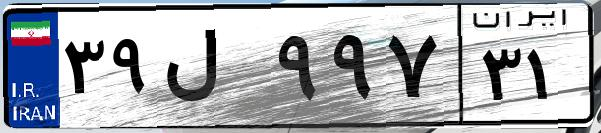1: (525, 38, 570, 115)
3: (57, 26, 110, 100), (475, 38, 525, 113)
7: (385, 28, 445, 110)
9: (270, 28, 330, 110), (330, 28, 385, 110), (110, 28, 158, 98)
ل: (158, 20, 270, 120)
